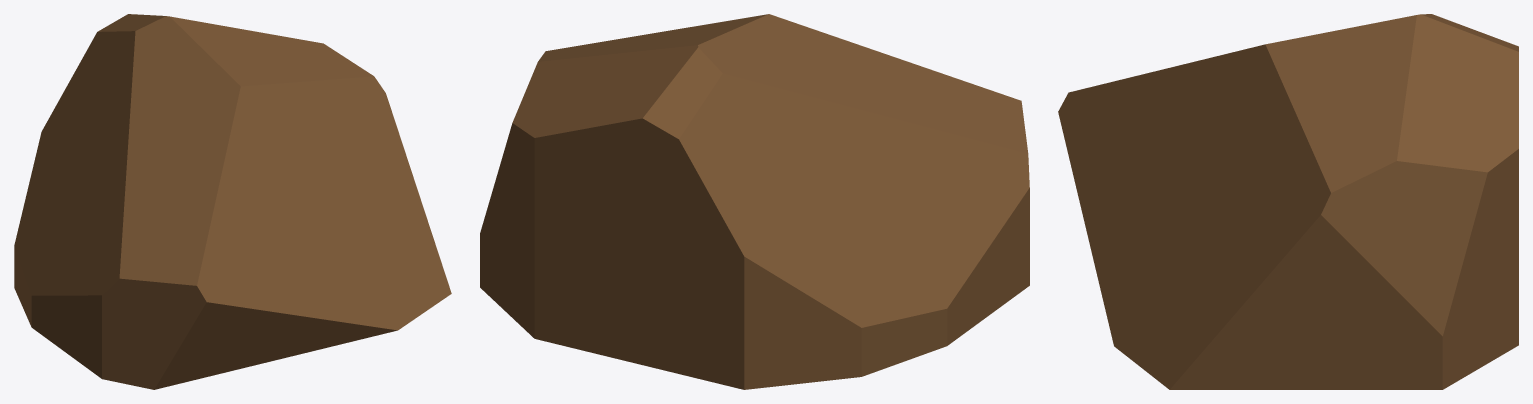
File: Piedra pequeña 2.fbx
The picture shows the model from 3 angles, left to right: view 1: azimuth 30°, elevation 25°; view 2: azimuth 150°, elevation 25°; view 3: azimuth 270°, elevation 25°; orthographic projection. The views are drawn at different scales.
Parts seen in each view (by area): view 1: Piedra pequeña; view 2: Piedra pequeña; view 3: Piedra pequeña.
Part boxes in pixels (bbox=[...]): Piedra pequeña: bbox=[14, 14, 451, 389]; Piedra pequeña: bbox=[480, 14, 1029, 389]; Piedra pequeña: bbox=[1058, 14, 1518, 389].
Bounding box in the file's own units: 0.9073 × 0.5978 × 0.9007.
